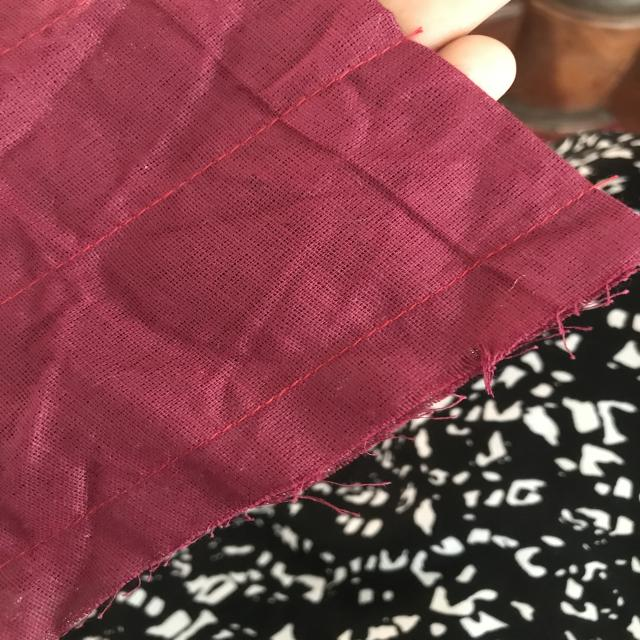good: (256, 338, 360, 436), (164, 129, 254, 221)
